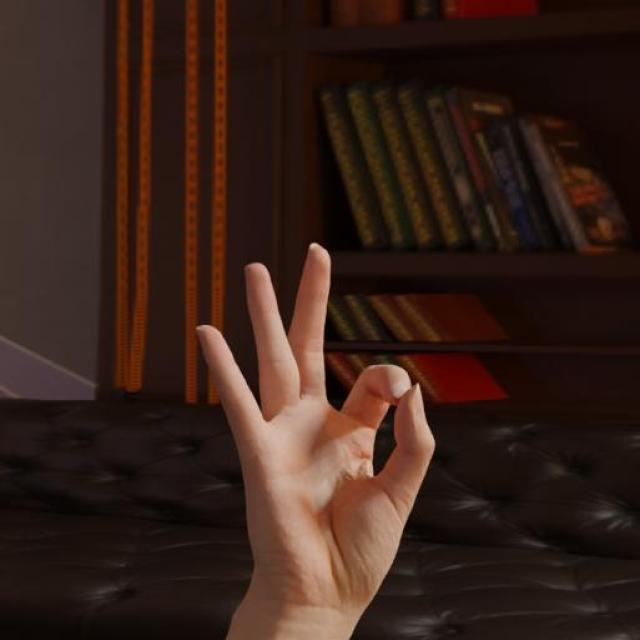F: (192, 238, 437, 616)
